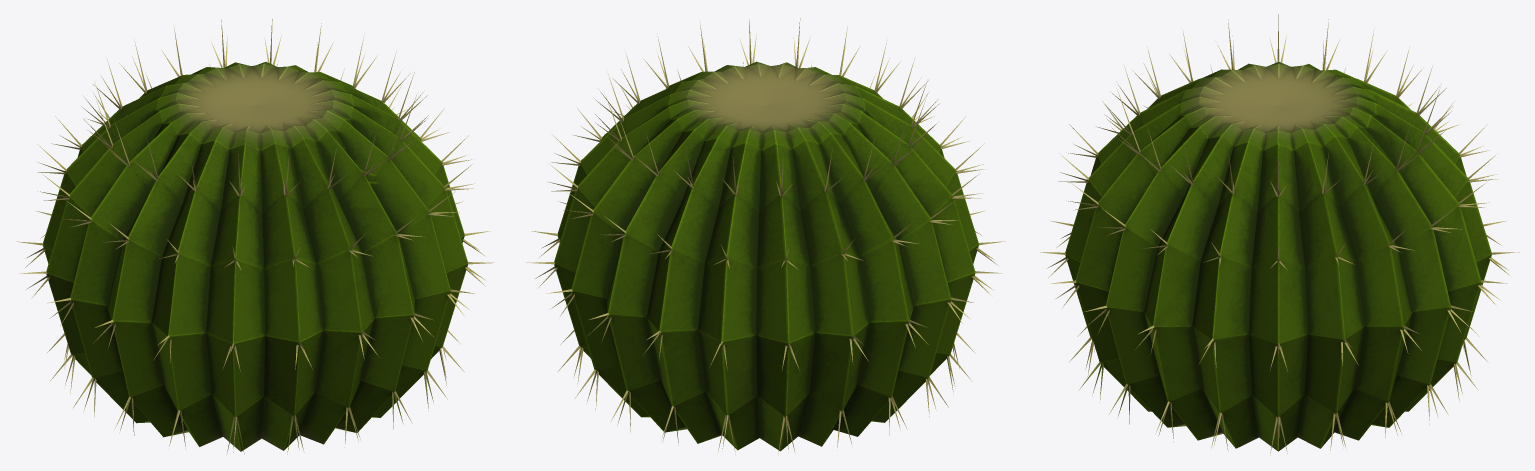
File: a4538253-0baf-484a-b215-d53d0ebb1a42.glb
3 views of the same model, side by side, from view 1: azimuth 30°, elevation 25°; view 2: azimuth 150°, elevation 25°; view 3: azimuth 270°, elevation 25° (orthographic).
Parts seen in each view (by area): view 1: BarrelCactus_mesh; view 2: BarrelCactus_mesh; view 3: BarrelCactus_mesh.
Part boxes in pixels (x1,y1,x2,y2): BarrelCactus_mesh: (16, 19, 493, 454); BarrelCactus_mesh: (526, 18, 1005, 453); BarrelCactus_mesh: (1040, 14, 1519, 455).
Size of the model in its own units: 6.92 by 5.02 by 6.92.
Materials: 1 (1 with a texture image).
